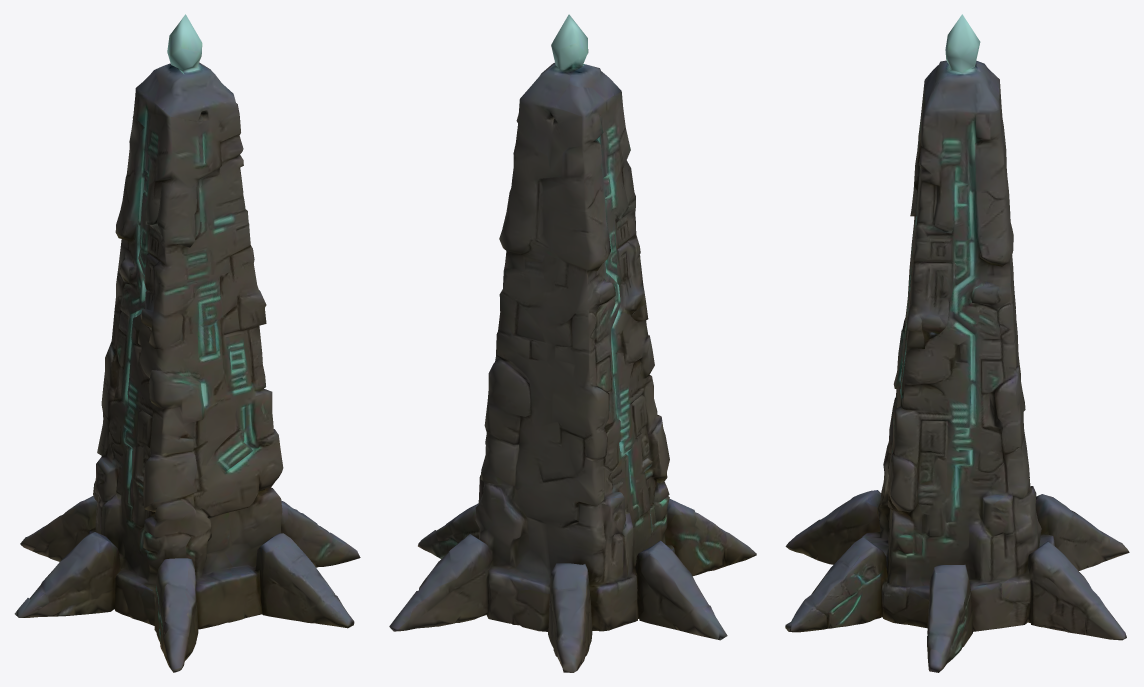
The model's file is tower.glb.
3 views of the same model, side by side, from view 1: azimuth 30°, elevation 25°; view 2: azimuth 150°, elevation 25°; view 3: azimuth 270°, elevation 25° (orthographic).
Visible parts, largest first — view 1: tripo_node_ae9023a9-9a5f-4629-817d-a97e6fde8d4b; view 2: tripo_node_ae9023a9-9a5f-4629-817d-a97e6fde8d4b; view 3: tripo_node_ae9023a9-9a5f-4629-817d-a97e6fde8d4b.
Part boxes in pixels (x1,y1,x2,y2): tripo_node_ae9023a9-9a5f-4629-817d-a97e6fde8d4b: [14, 14, 360, 672]; tripo_node_ae9023a9-9a5f-4629-817d-a97e6fde8d4b: [389, 14, 756, 672]; tripo_node_ae9023a9-9a5f-4629-817d-a97e6fde8d4b: [785, 14, 1129, 672].
Bounding box in the file's own units: 0.5891 × 1 × 0.5384.
Materials: 1 (1 with a texture image).
